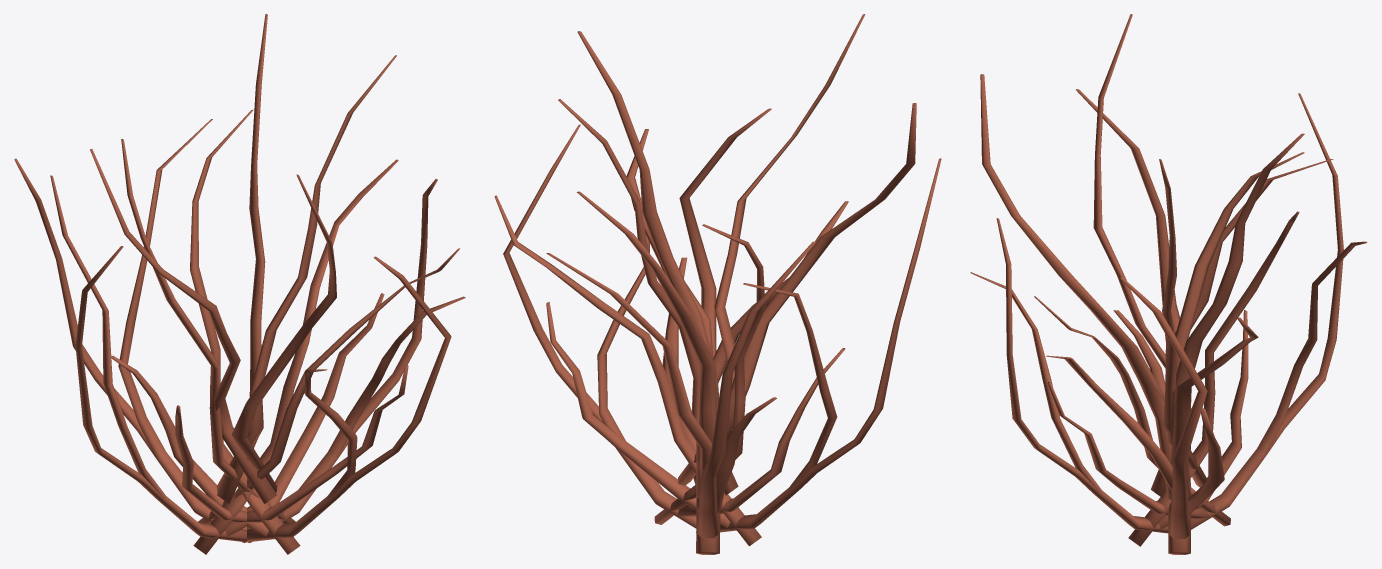
File: Roots.fbx
The picture shows the model from 3 angles, left to right: view 1: azimuth 30°, elevation 25°; view 2: azimuth 150°, elevation 25°; view 3: azimuth 270°, elevation 25°; orthographic projection. The views are drawn at different scales.
Visible parts, largest first — view 1: Roots; view 2: Roots; view 3: Roots.
Part boxes in pixels (x1=…): Roots: x1=14, y1=14, x2=465, y2=554; Roots: x1=494, y1=14, x2=941, y2=554; Roots: x1=970, y1=14, x2=1367, y2=554.
Bounding box in the file's own units: 1.58 × 1.94 × 1.67.
